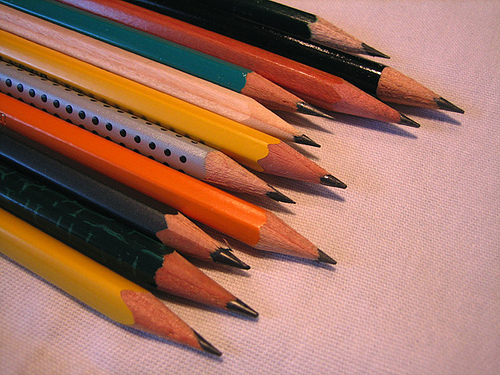pen_tip: (271, 1, 408, 62), (362, 60, 485, 119)
